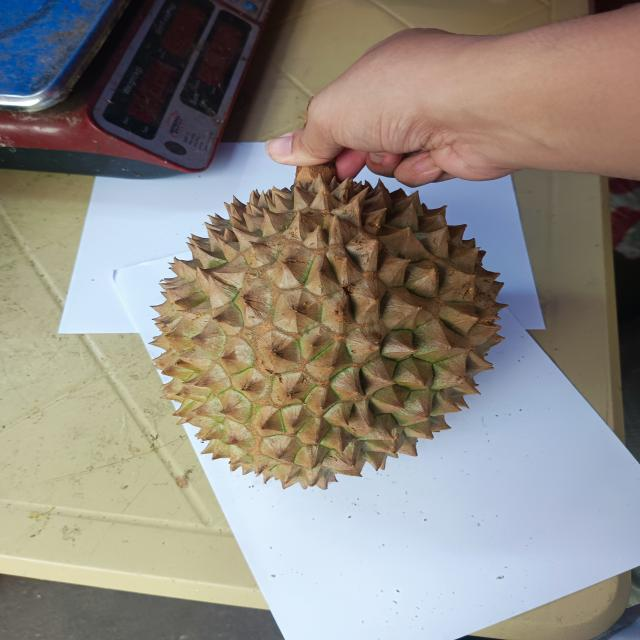mature: (148, 171, 504, 490)
